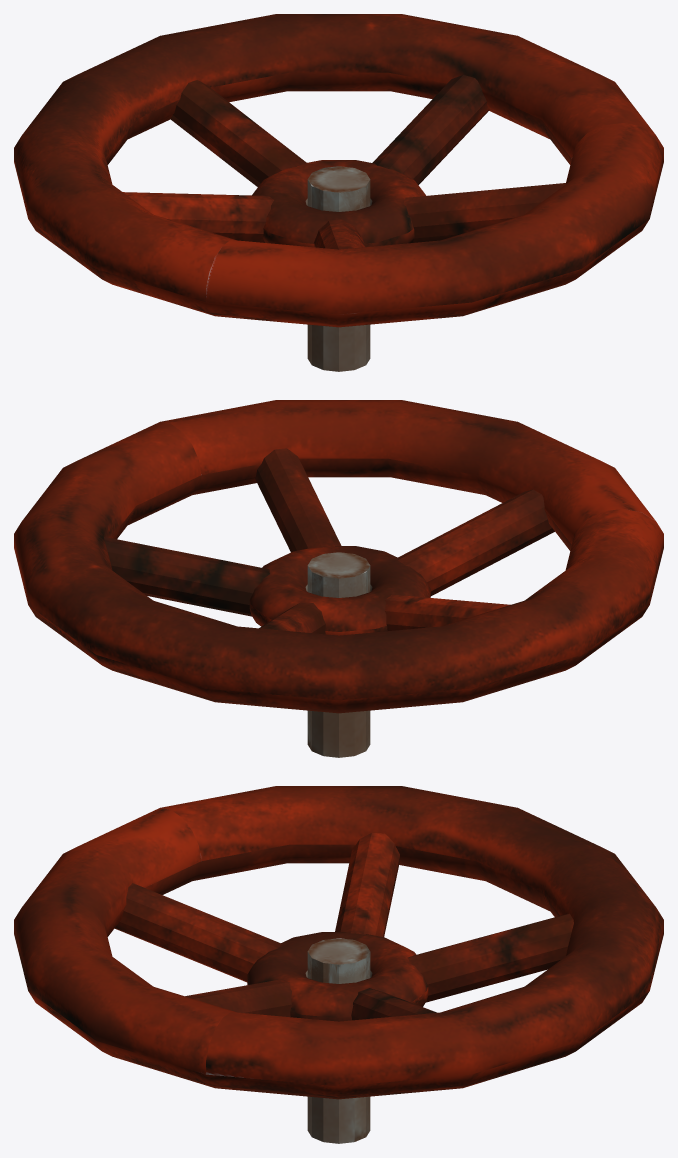
The model's file is Valve.fbx.
3 views of the same model, one above another, from view 1: azimuth 30°, elevation 25°; view 2: azimuth 150°, elevation 25°; view 3: azimuth 270°, elevation 25° (orthographic).
Parts seen in each view (by area): view 1: polySurface7; view 2: polySurface7; view 3: polySurface7.
Boxes of the visible parts, x1,y1,x2,y2 form: polySurface7: (14, 14, 663, 371); polySurface7: (14, 400, 663, 757); polySurface7: (14, 786, 663, 1143).
Size of the model in its own units: 6.9 by 2.63 by 6.94.
